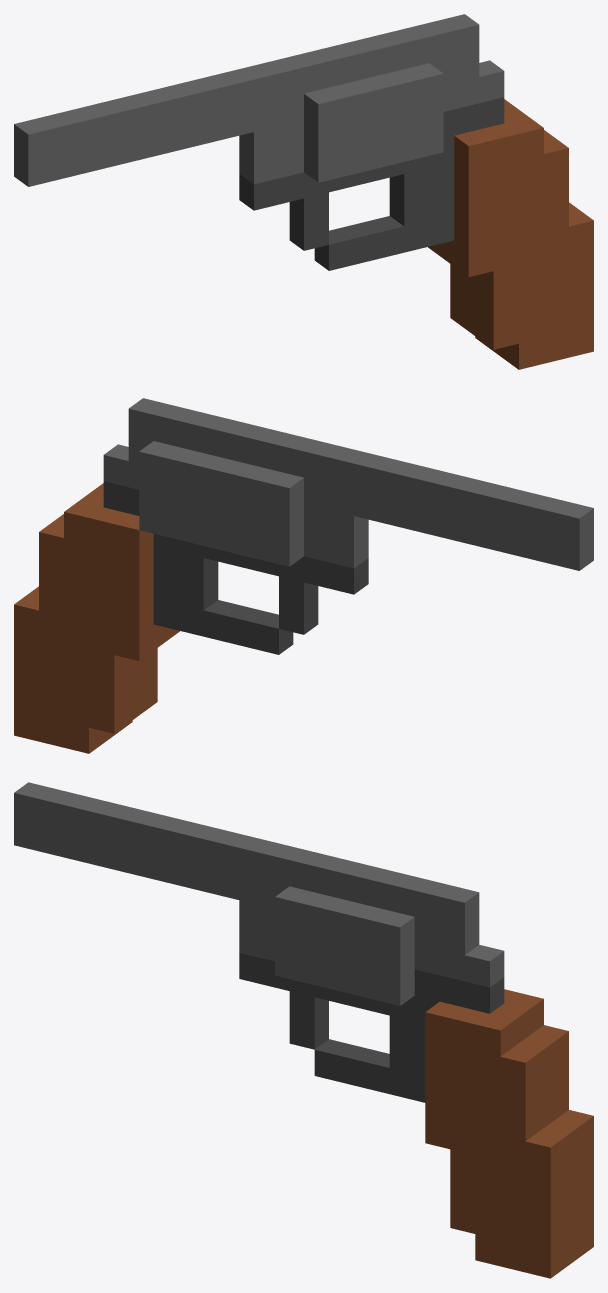
The model's file is Gun-5.obj.
3 renders of one model, top to bottom at view 1: azimuth 30°, elevation 25°; view 2: azimuth 150°, elevation 25°; view 3: azimuth 330°, elevation 25°, orthographic.
Visible parts, largest first — view 1: Gun-5; view 2: Gun-5; view 3: Gun-5.
Part boxes in pixels (x1,y1,x2,y2): Gun-5: [14, 14, 593, 369]; Gun-5: [14, 398, 593, 753]; Gun-5: [14, 782, 593, 1278].
Size of the model in its own units: 22 by 13 by 3.
1 material, 1 textured.
